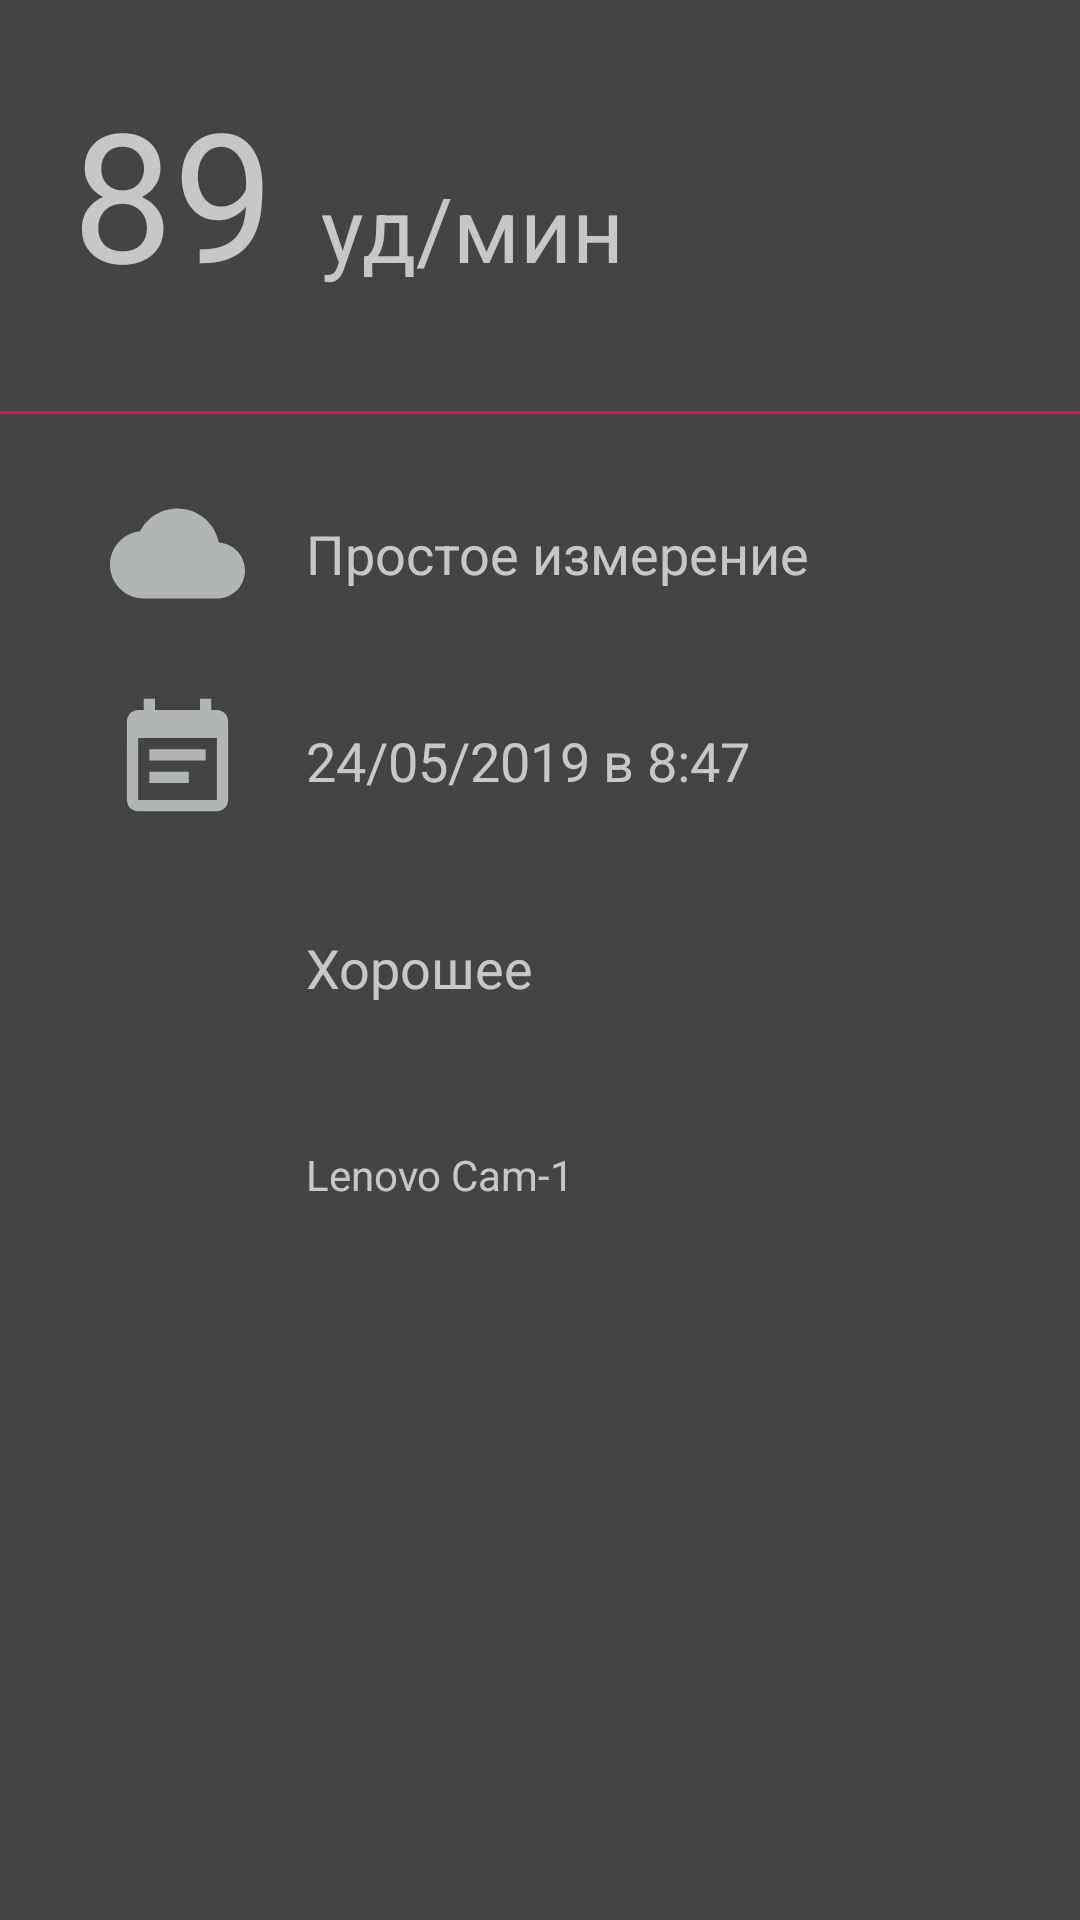

Icon click points for this 1080px×1920px phone screenshot, format (x,y):
cloud: (177,553)
event note: (177,755)
